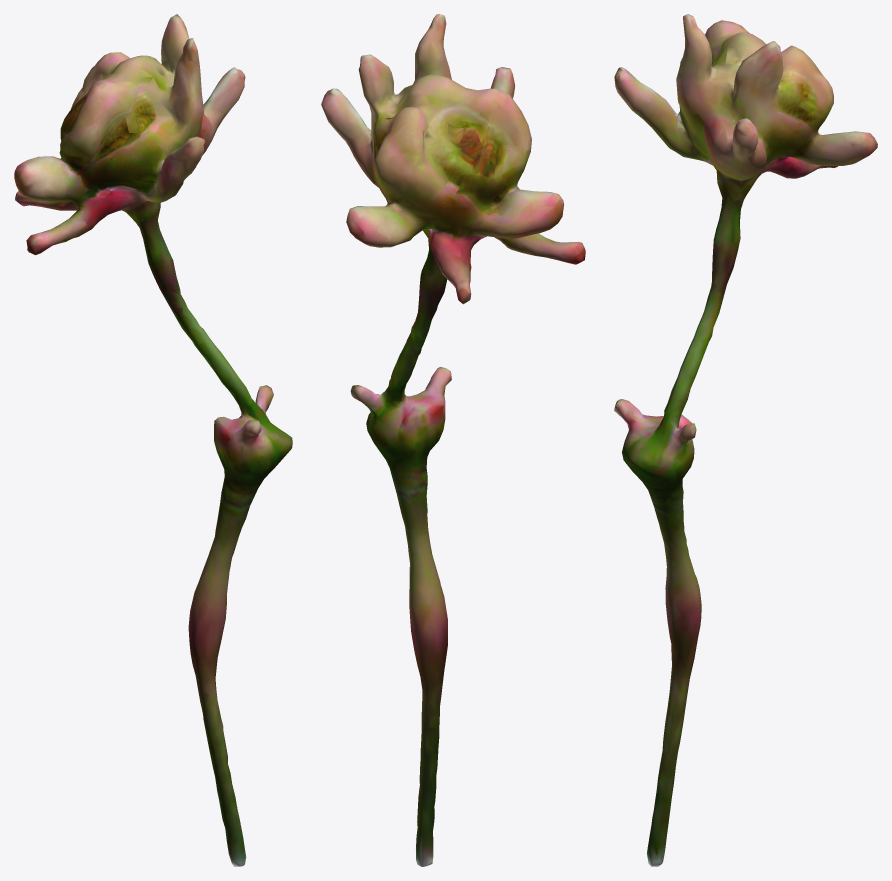
Rendered from flower5.glb.
The picture shows the model from 3 angles, left to right: view 1: azimuth 30°, elevation 25°; view 2: azimuth 150°, elevation 25°; view 3: azimuth 270°, elevation 25°; orthographic projection. The views are drawn at different scales.
Visible parts, largest first — view 1: flower5; view 2: flower5; view 3: flower5.
Part boxes in pixels (left/top/right/bottom): flower5: left=14, top=14, right=292, bottom=866; flower5: left=321, top=14, right=585, bottom=866; flower5: left=614, top=14, right=877, bottom=866.
Size of the model in its own units: 0.4989 by 1.69 by 0.4832.
Materials: 1 (1 with a texture image).
